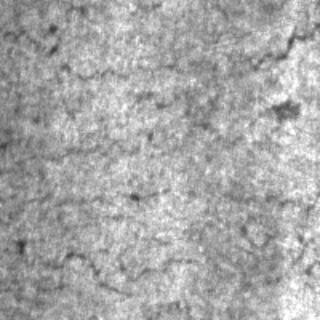crazing: (1, 19, 316, 174), (5, 188, 211, 296)
